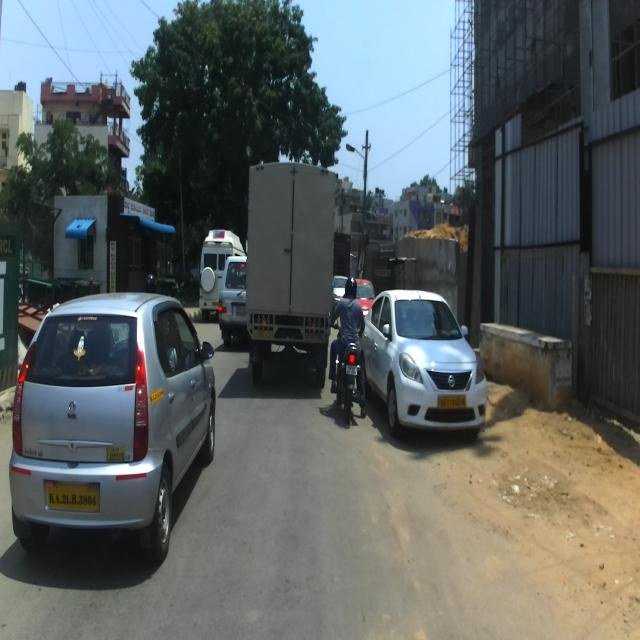car ahead at: (5, 293, 220, 584), (367, 285, 482, 455)
truck ahead at: (243, 161, 341, 373)
